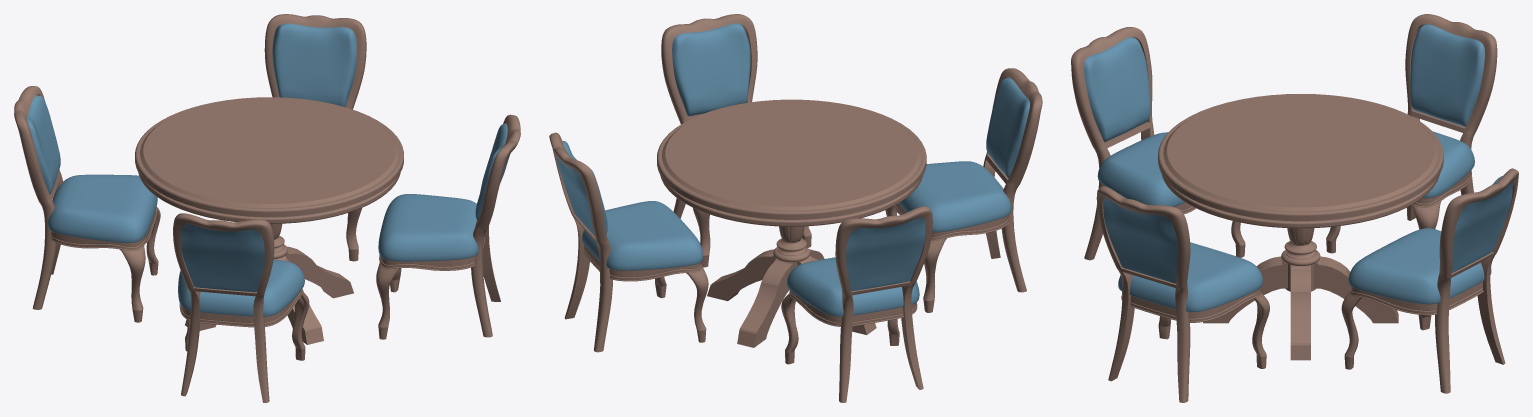
Rendered from 384_ダイニングテーブルセット.glb.
3 renders of one model, left to right at view 1: azimuth 30°, elevation 25°; view 2: azimuth 150°, elevation 25°; view 3: azimuth 270°, elevation 25°, orthographic. The views are drawn at different scales.
Visible parts, largest first — view 1: 383_ラウンドテーブル, 382_ダイニングチェア.001, 382_ダイニングチェア.003, 382_ダイニングチェア.002, 382_ダイニングチェア; view 2: 383_ラウンドテーブル, 382_ダイニングチェア.003, 382_ダイニングチェア.001, 382_ダイニングチェア, 382_ダイニングチェア.002; view 3: 383_ラウンドテーブル, 382_ダイニングチェア.002, 382_ダイニングチェア, 382_ダイニングチェア.001, 382_ダイニングチェア.003.
Part boxes in pixels (box(x1,y1,x2,y2)): 383_ラウンドテーブル: box(135, 97, 403, 344); 382_ダイニングチェア.001: box(173, 213, 309, 402); 382_ダイニングチェア.003: box(14, 86, 160, 322); 382_ダイニングチェア.002: box(376, 114, 520, 339); 382_ダイニングチェア: box(264, 14, 366, 261); 383_ラウンドテーブル: box(657, 99, 926, 347); 382_ダイニングチェア.003: box(781, 206, 932, 402); 382_ダイニングチェア.001: box(885, 68, 1042, 312); 382_ダイニングチェア: box(549, 132, 708, 352); 382_ダイニングチェア.002: box(661, 14, 811, 267); 383_ラウンドテーブル: box(1158, 94, 1443, 360); 382_ダイニングチェア.002: box(1096, 186, 1269, 402); 382_ダイニングチェア: box(1341, 168, 1518, 393); 382_ダイニングチェア.001: box(1071, 27, 1245, 260); 382_ダイニングチェア.003: box(1326, 14, 1497, 253).
Bounding box in the file's own units: 1.82 × 0.8833 × 1.74.
